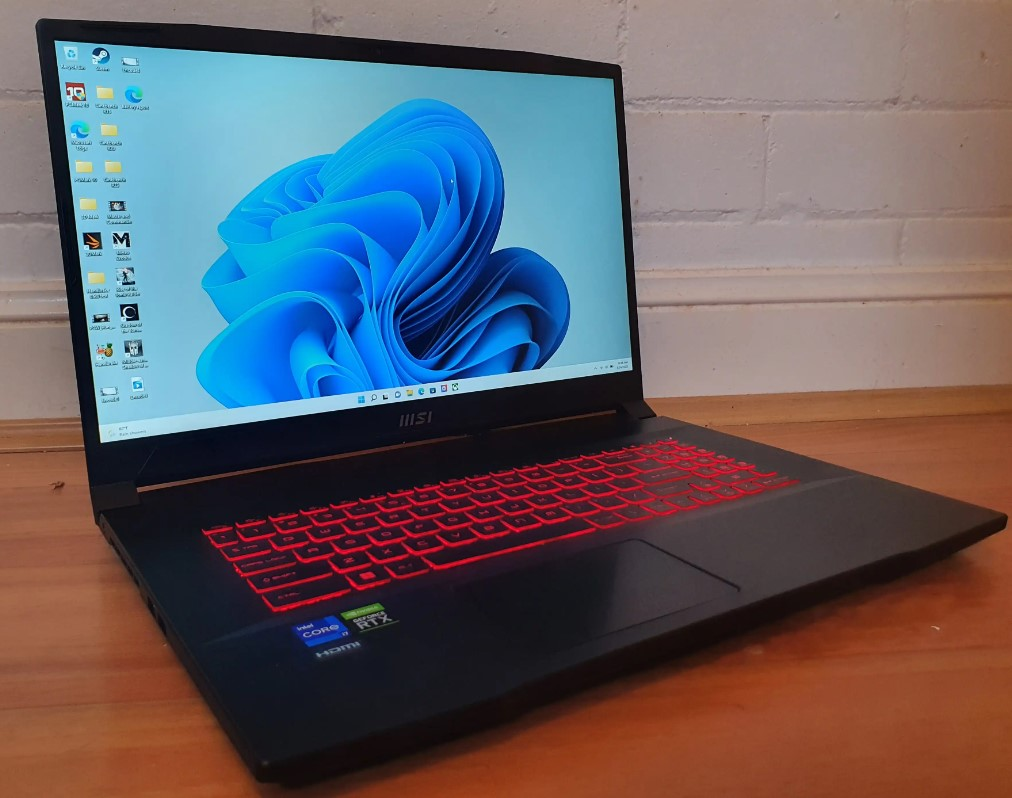laptops: (22, 10, 1012, 780)
